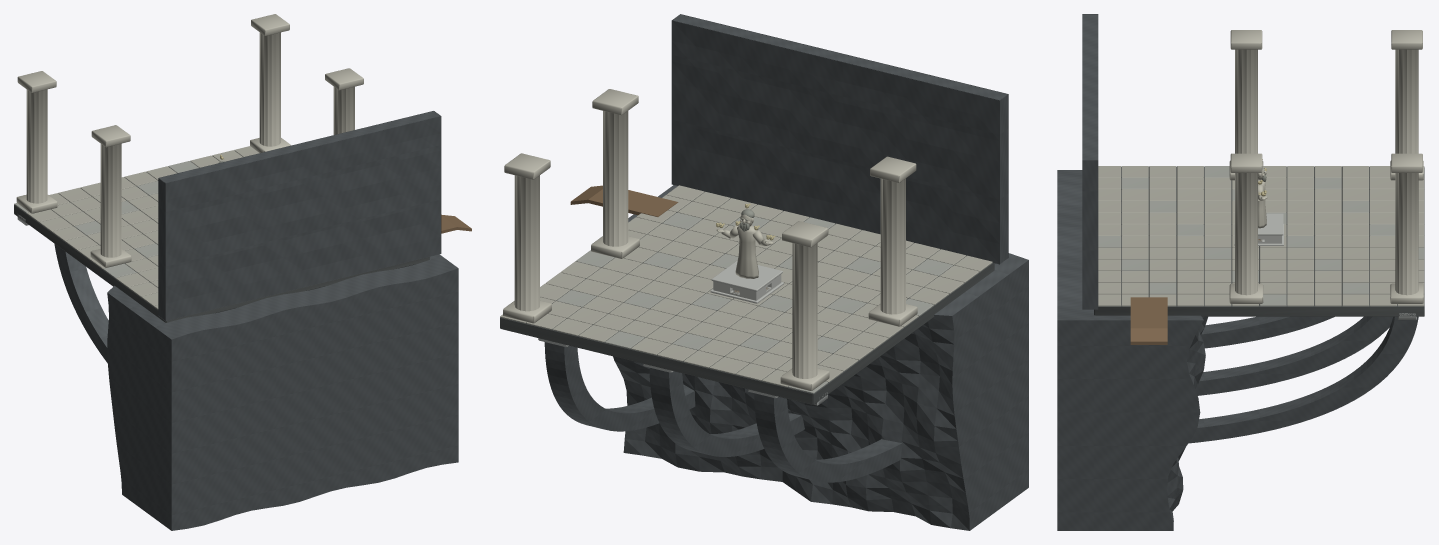
The model's file is retreat_v3_a5.glb.
3 views of the same model, side by side, from view 1: azimuth 30°, elevation 25°; view 2: azimuth 150°, elevation 25°; view 3: azimuth 270°, elevation 25° (orthographic). The views are drawn at different scales.
Parts seen in each view (by area): view 1: VTT_Cliff_Bounded_Anchor, CANON_North_Carved_Rock_Wall, CANON_Floor_Temple, CANON_Column_-4.12_0.35, CANON_Column_-4.12_-4.02, CANON_Column_4.12_-4.02, CANON_Arched_Support_-3, CANON_Column_4.12_0.35; view 2: CANON_North_Carved_Rock_Wall, CANON_Floor_Temple, VTT_Cliff_Bounded_Anchor, CANON_Arched_Support_-3, CANON_Column_-4.12_0.35, CANON_Column_-4.12_-4.02, CANON_Column_4.12_-4.02, CANON_Column_4.12_0.35, CANON_Arched_Support_0, CANON_Arched_Support_3, CANON_Bahamut_Pedestal, CANON_Bahamut_Kind_Elder; view 3: CANON_Floor_Temple, VTT_Cliff_Bounded_Anchor, CANON_Arched_Support_3, CANON_North_Carved_Rock_Wall, CANON_Arched_Support_0, CANON_Column_4.12_-4.02, CANON_Column_4.12_0.35, CANON_Column_-4.12_-4.02, CANON_Column_-4.12_0.35, CANON_Arched_Support_-3, CANON_Bahamut_Pedestal, CANON_Bahamut_Kind_Elder.
Boxes of the visible parts, x1=… form: VTT_Cliff_Bounded_Anchor: x1=107, y1=254, x2=458, y2=530; CANON_North_Carved_Rock_Wall: x1=158, y1=111, x2=441, y2=320; CANON_Floor_Temple: x1=14, y1=146, x2=429, y2=322; CANON_Column_-4.12_0.35: x1=90, y1=125, x2=131, y2=267; CANON_Column_-4.12_-4.02: x1=16, y1=71, x2=57, y2=213; CANON_Column_4.12_-4.02: x1=250, y1=14, x2=290, y2=152; CANON_Arched_Support_-3: x1=54, y1=244, x2=108, y2=363; CANON_Column_4.12_0.35: x1=325, y1=68, x2=363, y2=134; CANON_North_Carved_Rock_Wall: x1=671, y1=14, x2=1008, y2=264; CANON_Floor_Temple: x1=500, y1=185, x2=994, y2=404; VTT_Cliff_Bounded_Anchor: x1=613, y1=185, x2=1028, y2=530; CANON_Arched_Support_-3: x1=748, y1=389, x2=902, y2=482; CANON_Column_-4.12_0.35: x1=868, y1=156, x2=917, y2=326; CANON_Column_-4.12_-4.02: x1=780, y1=221, x2=829, y2=390; CANON_Column_4.12_-4.02: x1=503, y1=153, x2=551, y2=323; CANON_Column_4.12_0.35: x1=591, y1=89, x2=639, y2=258; CANON_Arched_Support_0: x1=643, y1=363, x2=804, y2=456; CANON_Arched_Support_3: x1=538, y1=338, x2=695, y2=431; CANON_Bahamut_Pedestal: x1=710, y1=260, x2=784, y2=303; CANON_Bahamut_Kind_Elder: x1=716, y1=209, x2=773, y2=278; CANON_Floor_Temple: x1=1094, y1=166, x2=1424, y2=316; VTT_Cliff_Bounded_Anchor: x1=1057, y1=170, x2=1207, y2=530; CANON_Arched_Support_3: x1=1189, y1=316, x2=1418, y2=443; CANON_North_Carved_Rock_Wall: x1=1082, y1=14, x2=1098, y2=309; CANON_Arched_Support_0: x1=1195, y1=316, x2=1392, y2=395; CANON_Column_4.12_-4.02: x1=1390, y1=153, x2=1423, y2=303; CANON_Column_4.12_0.35: x1=1229, y1=153, x2=1263, y2=303; CANON_Column_-4.12_-4.02: x1=1390, y1=30, x2=1423, y2=180; CANON_Column_-4.12_0.35: x1=1229, y1=30, x2=1263, y2=180; CANON_Arched_Support_-3: x1=1201, y1=316, x2=1334, y2=348; CANON_Bahamut_Pedestal: x1=1234, y1=213, x2=1283, y2=246; CANON_Bahamut_Kind_Elder: x1=1258, y1=166, x2=1267, y2=228.
Bounding box in the file's own units: 17.08 × 16.62 × 15.
Materials: 8 (1 with a texture image).
